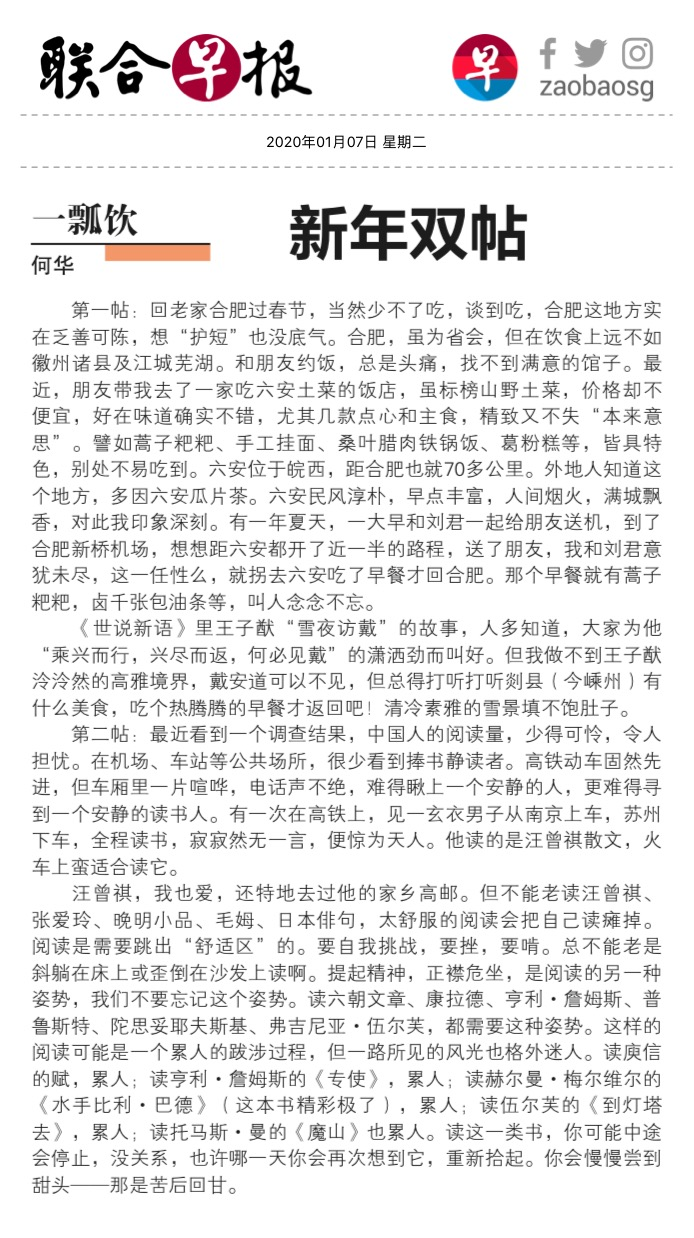heading: (283, 195, 539, 271)
